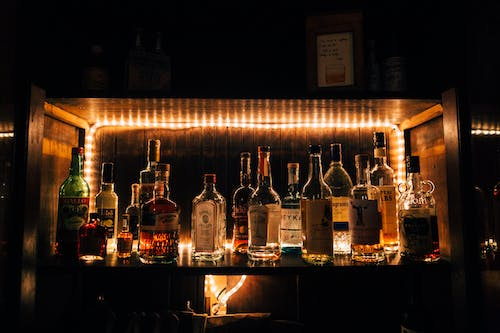alcohol: (399, 154, 441, 262), (137, 163, 181, 264), (246, 144, 282, 262), (54, 146, 91, 257), (301, 143, 334, 267), (351, 153, 385, 263), (369, 130, 399, 254), (323, 143, 353, 256), (190, 172, 227, 262), (231, 151, 255, 255), (93, 162, 119, 255), (139, 137, 170, 205), (280, 162, 302, 255), (77, 212, 109, 261), (125, 182, 140, 240), (115, 214, 134, 259)
